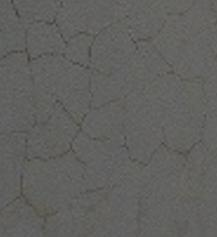retracao: (0, 0, 210, 229)
